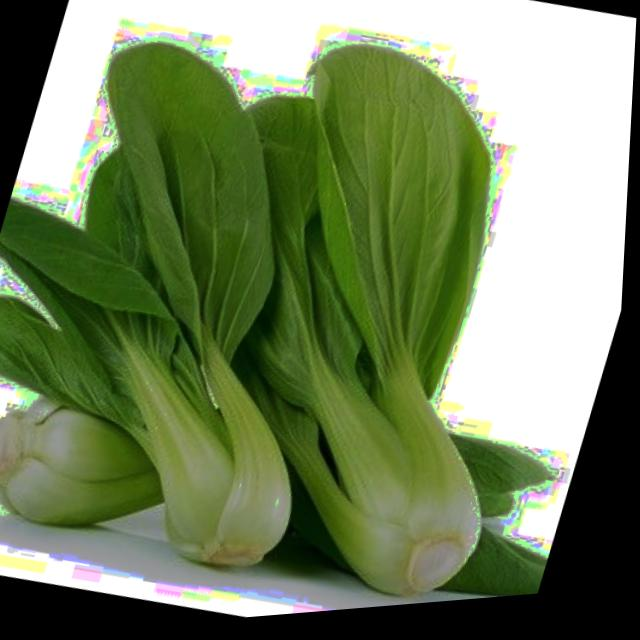chinese_cabbage: (0, 0, 628, 640)
